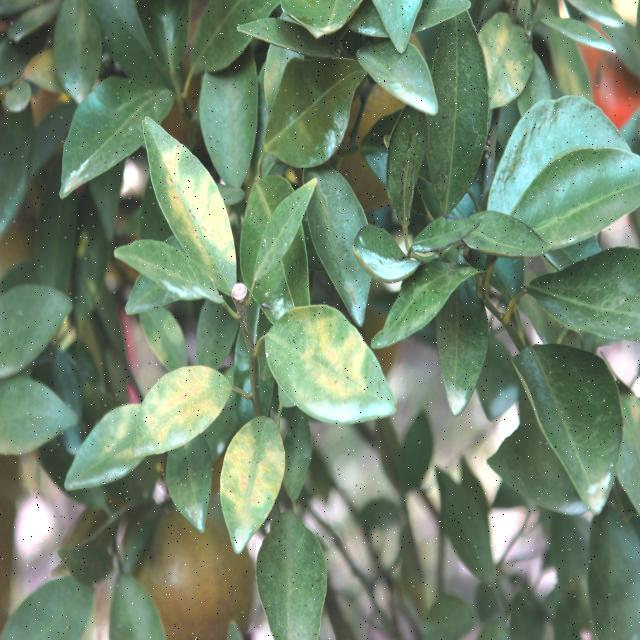blackspot: (167, 160, 223, 274), (258, 199, 302, 265), (569, 118, 601, 142)
